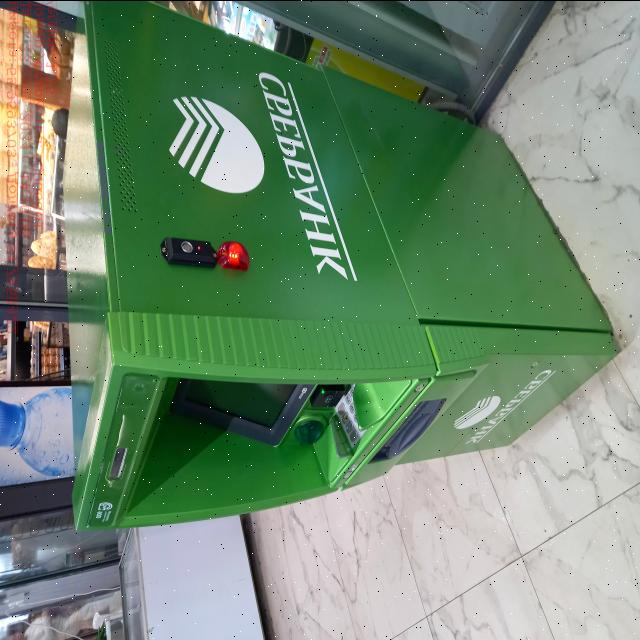bank: (69, 0, 618, 532)
